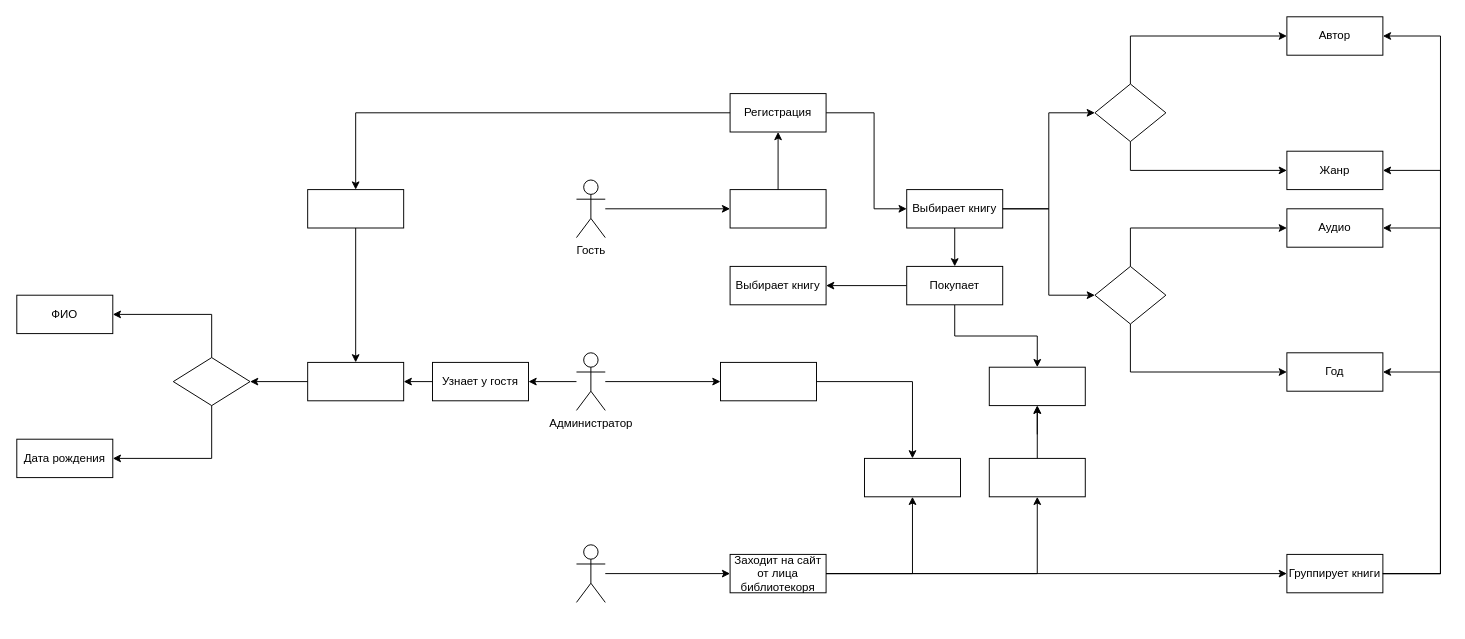
The diagram is 1465 pixels wide and 639 high, and some of its shapes have lost their labels. The shapes that lost their labels are listed below. From the top down, each one's box as (x1, y1, x2, y2) in pixels, then its label:
(307, 189, 404, 228): Указывает
(729, 189, 826, 228): Заходит на сайт от лица гостя
(307, 361, 404, 401): Сведения
(720, 361, 816, 401): Заходит на сайт от лица администратора
(988, 366, 1085, 406): Книга
(864, 457, 960, 497): Принимают новые книги
(988, 457, 1085, 497): Продает
(576, 544, 605, 602): Библиотекарь
